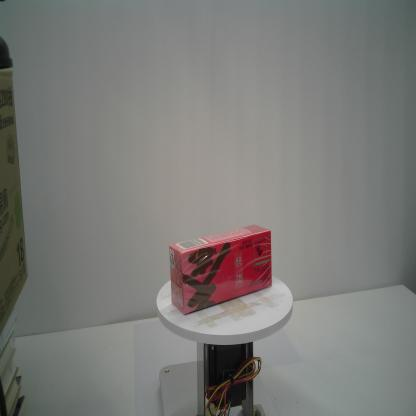Instant Drink: (168, 224, 273, 315)
